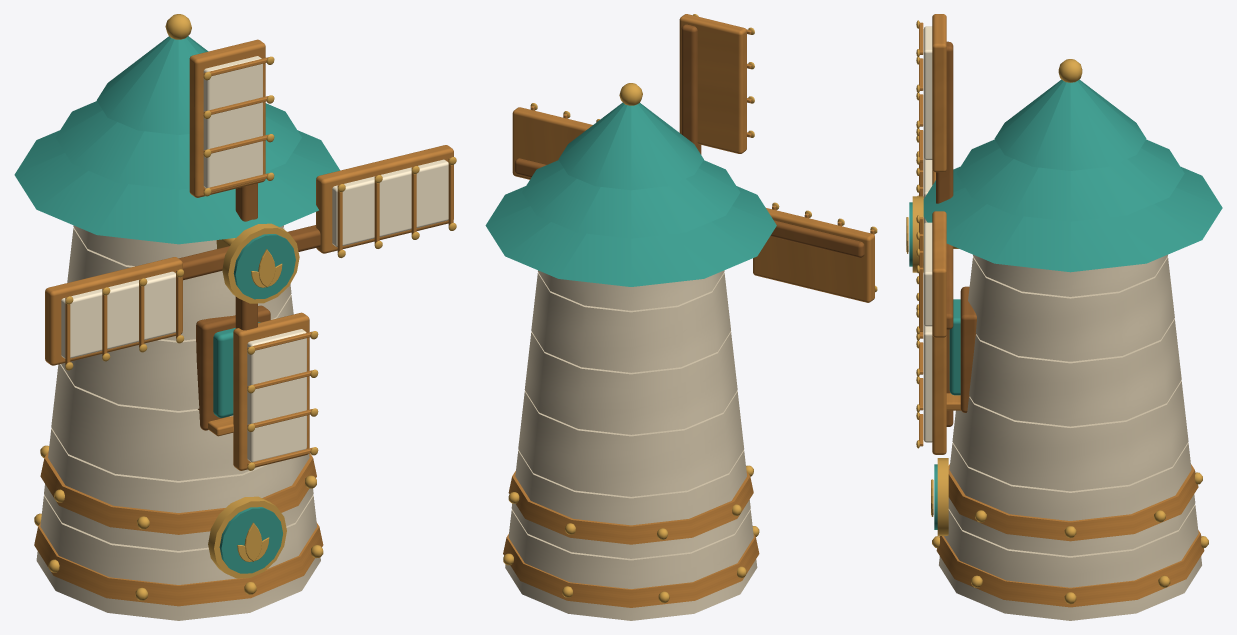
The model's file is garden-windmill.glb.
The picture shows the model from 3 angles, left to right: view 1: azimuth 30°, elevation 25°; view 2: azimuth 150°, elevation 25°; view 3: azimuth 270°, elevation 25°; orthographic projection. The views are drawn at different scales.
Visible parts, largest first — view 1: windmill-tower-tree-bench-stone, windmill-tower-tree-bench-leaf, rotor-garden-sail-cream, rotor-tree-bench-wood, windmill-tower-tree-bench-wood, windmill-tower-tree-bench-brass, rotor-tree-bench-brass, rotor-tree-bench-frame, rotor-tree-bench-leaf, windmill-tower-tree-bench-frame; view 2: windmill-tower-tree-bench-stone, windmill-tower-tree-bench-leaf, rotor-tree-bench-wood, windmill-tower-tree-bench-wood, rotor-tree-bench-frame, windmill-tower-tree-bench-brass; view 3: windmill-tower-tree-bench-stone, windmill-tower-tree-bench-leaf, windmill-tower-tree-bench-wood, rotor-tree-bench-wood, rotor-garden-sail-cream, rotor-tree-bench-frame, windmill-tower-tree-bench-brass, windmill-tower-tree-bench-frame, rotor-tree-bench-brass.
Boxes of the visible parts, <box> form: windmill-tower-tree-bench-stone: <box>36,225,320,620</box>; windmill-tower-tree-bench-leaf: <box>14,36,340,573</box>; rotor-garden-sail-cream: <box>61,56,448,462</box>; rotor-tree-bench-wood: <box>45,39,453,470</box>; windmill-tower-tree-bench-wood: <box>34,416,323,606</box>; windmill-tower-tree-bench-brass: <box>34,14,323,600</box>; rotor-tree-bench-brass: <box>65,56,456,470</box>; rotor-tree-bench-frame: <box>178,183,320,330</box>; rotor-tree-bench-leaf: <box>233,234,295,299</box>; windmill-tower-tree-bench-frame: <box>196,305,270,430</box>; windmill-tower-tree-bench-stone: <box>505,270,757,620</box>; windmill-tower-tree-bench-leaf: <box>485,102,776,286</box>; rotor-tree-bench-wood: <box>512,14,874,302</box>; windmill-tower-tree-bench-wood: <box>503,471,759,607</box>; rotor-tree-bench-frame: <box>514,24,864,257</box>; windmill-tower-tree-bench-brass: <box>503,83,759,603</box>; windmill-tower-tree-bench-stone: <box>939,254,1201,620</box>; windmill-tower-tree-bench-leaf: <box>923,79,1222,529</box>; windmill-tower-tree-bench-wood: <box>936,393,1204,607</box>; rotor-tree-bench-wood: <box>919,14,946,454</box>; rotor-garden-sail-cream: <box>923,26,932,442</box>; rotor-tree-bench-frame: <box>936,41,953,426</box>; windmill-tower-tree-bench-brass: <box>931,59,1208,604</box>; windmill-tower-tree-bench-frame: <box>960,286,976,412</box>; rotor-tree-bench-brass: <box>906,20,923,448</box>.
Size of the model in its own units: 2.95 by 3.97 by 2.16.
6 materials, 3 textured.
